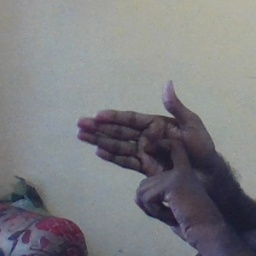R: (74, 78, 216, 209)
